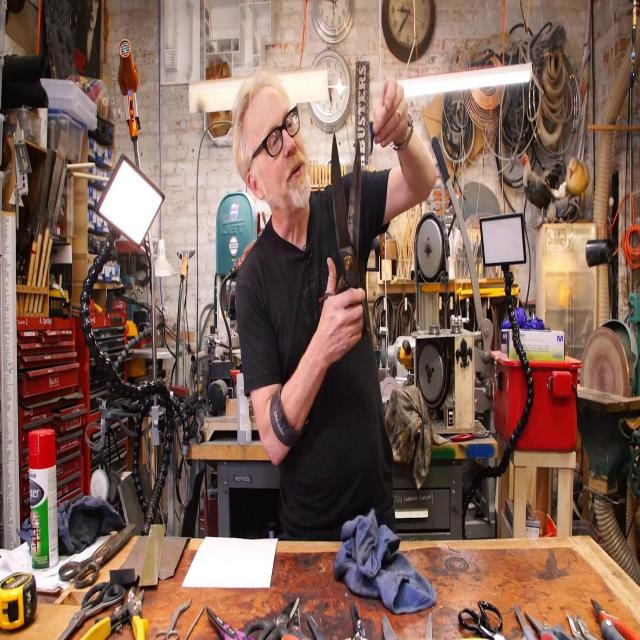scissor: (328, 132, 370, 340), (59, 524, 138, 588), (57, 579, 125, 640), (243, 594, 301, 640), (457, 598, 509, 640), (205, 604, 257, 640), (155, 598, 192, 640), (528, 610, 570, 640), (283, 607, 309, 640), (516, 606, 539, 640)
